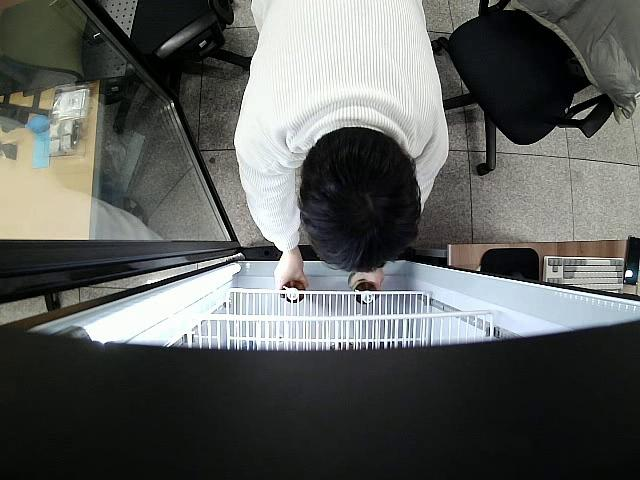00_hand: (272, 256, 309, 301), (347, 264, 384, 291)
19_17cha: (346, 272, 378, 305), (281, 281, 305, 303)
